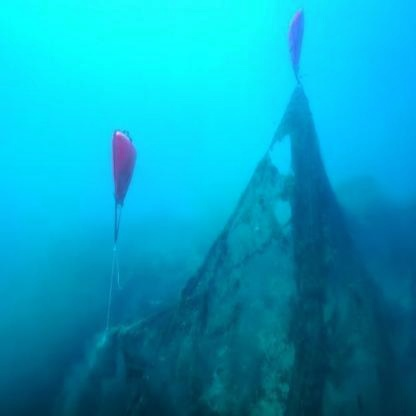misc: (106, 121, 167, 261)
